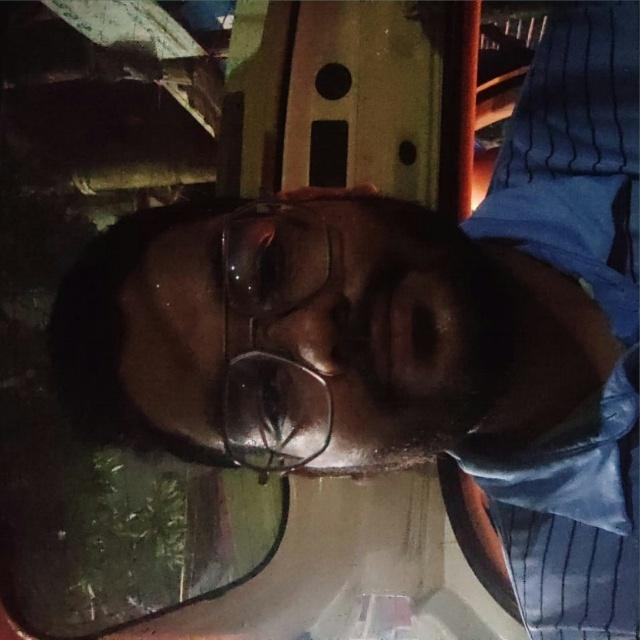Happy: (87, 156, 521, 497)
